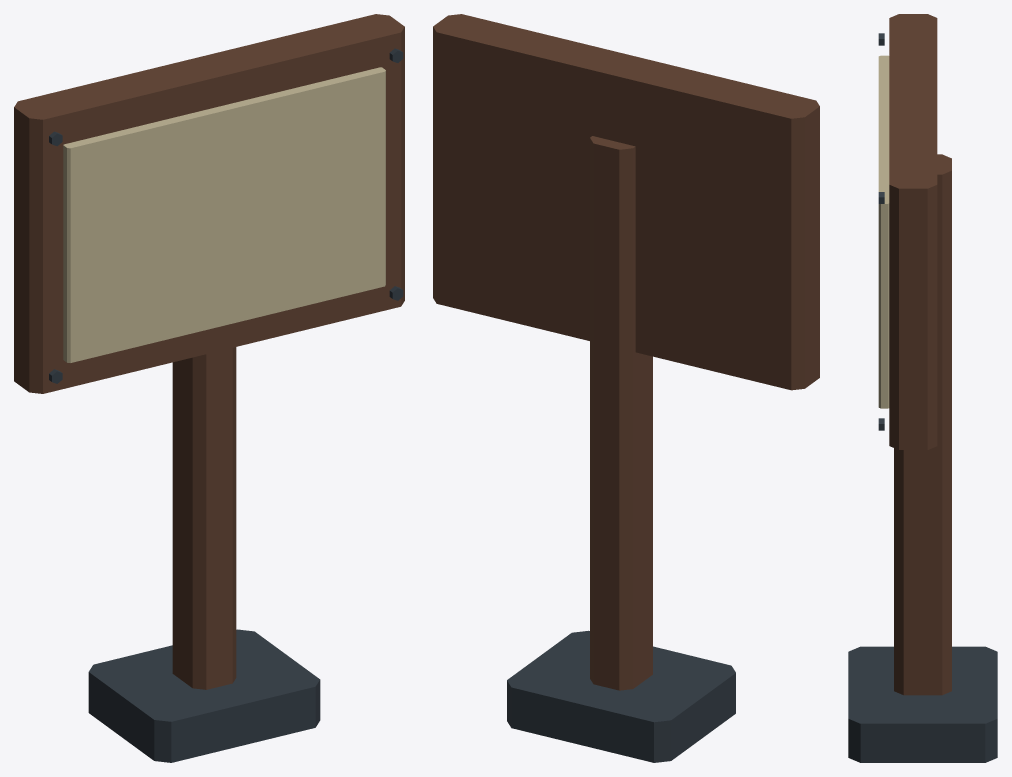
The model's file is safety_sign.glb.
3 views of the same model, side by side, from view 1: azimuth 30°, elevation 25°; view 2: azimuth 150°, elevation 25°; view 3: azimuth 270°, elevation 25° (orthographic). The views are drawn at different scales.
Visible parts, largest first — view 1: geometry; view 2: geometry; view 3: geometry.
Part boxes in pixels (x1,y1,x2,y2): geometry: (14,14,404,762); geometry: (433,14,819,762); geometry: (848,14,997,762).
Size of the model in its own units: 0.86 by 1.43 by 0.31.
